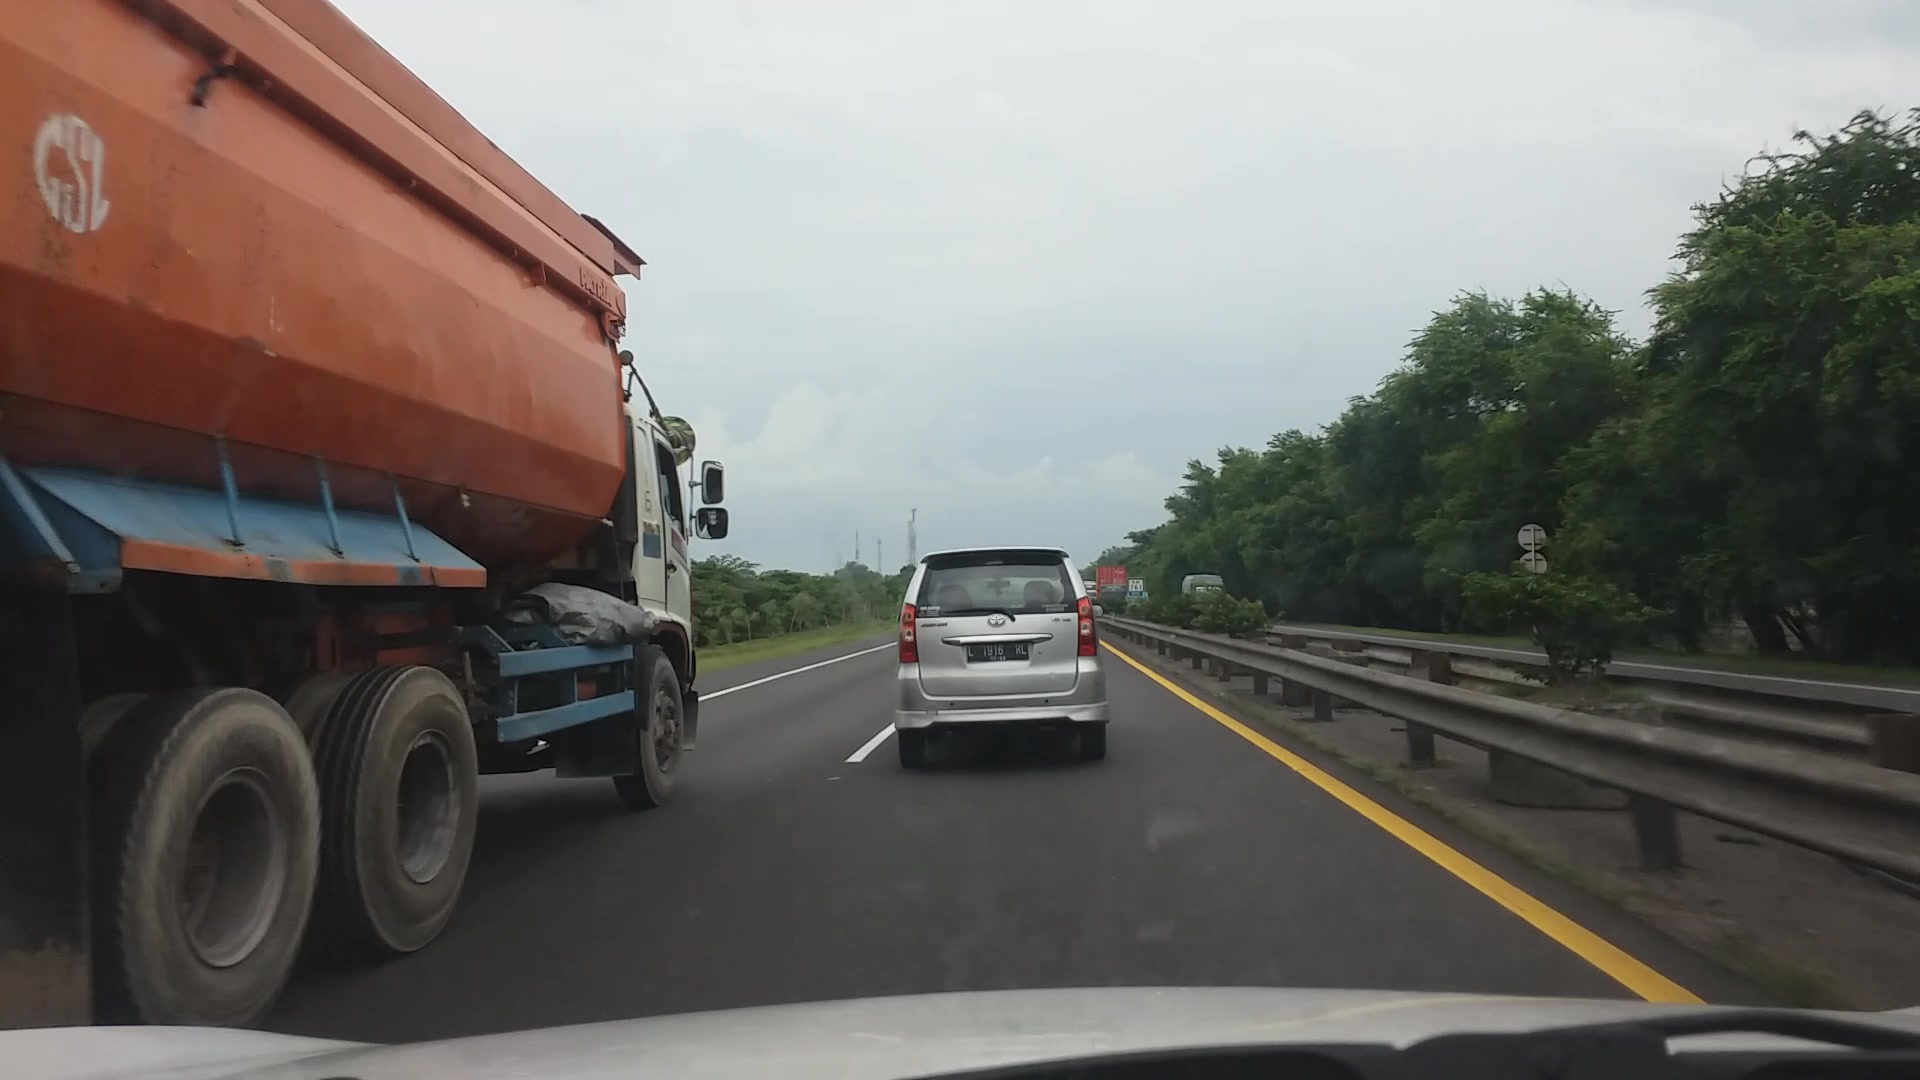plate_positive: (967, 641, 1029, 662)
